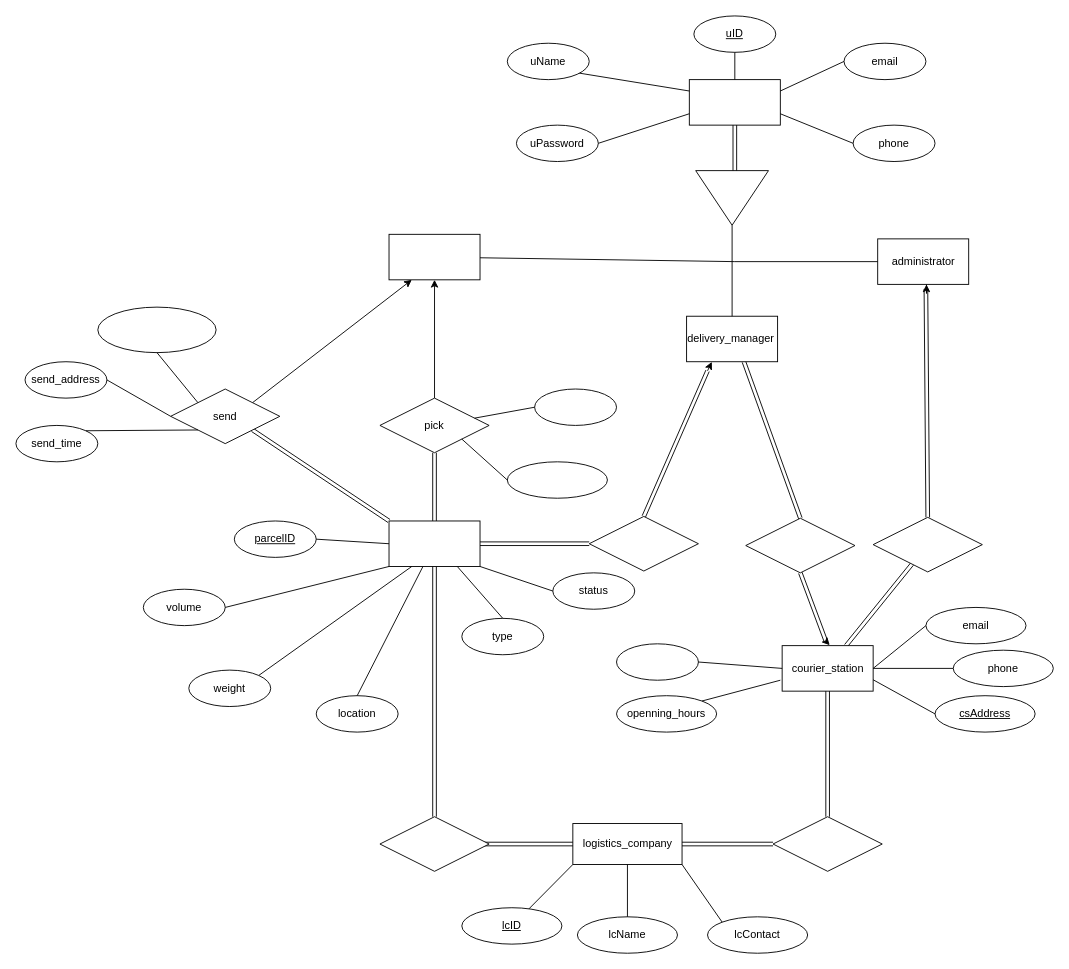
Image size: 1069x969. Some labels were removed from this diagram. Here are the shapes that lost their labels. From the top down, the centre of each, then its label:
(734,102): user
(731,197): ISA
(434,256): customer
(156,329): send_storage_time
(575,406): pick_time
(556,479): pick_storage_time
(434,543): parcel
(643,543): manage
(800,545): belong
(927,544): control
(657,661): csID
(434,843): carry
(827,843): transfer
